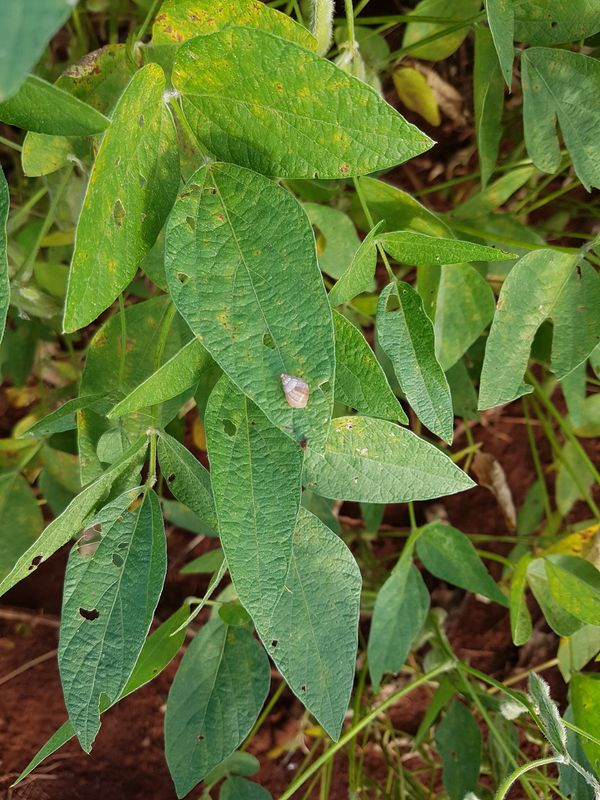Gastropoda: (270, 368, 317, 413)
